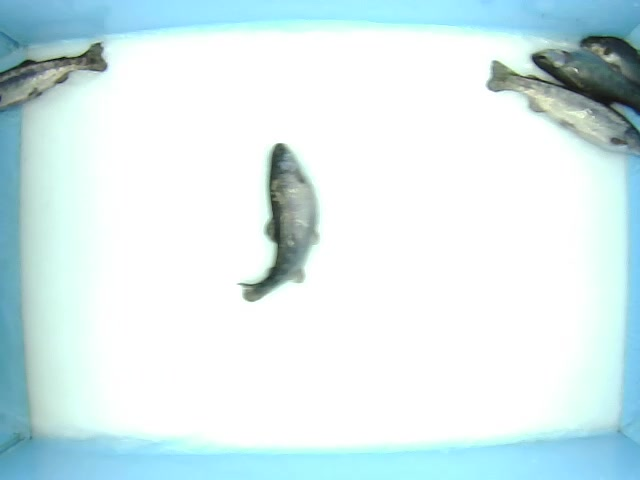fish: (486, 59, 640, 159), (236, 142, 318, 304), (1, 40, 111, 113), (527, 46, 640, 113)
